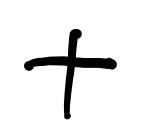plus: (24, 29, 117, 119)
